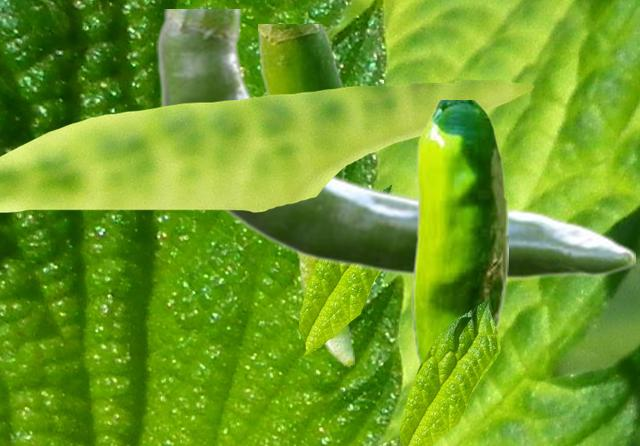green_chili: (156, 9, 634, 279), (258, 24, 353, 365), (411, 100, 507, 398)
